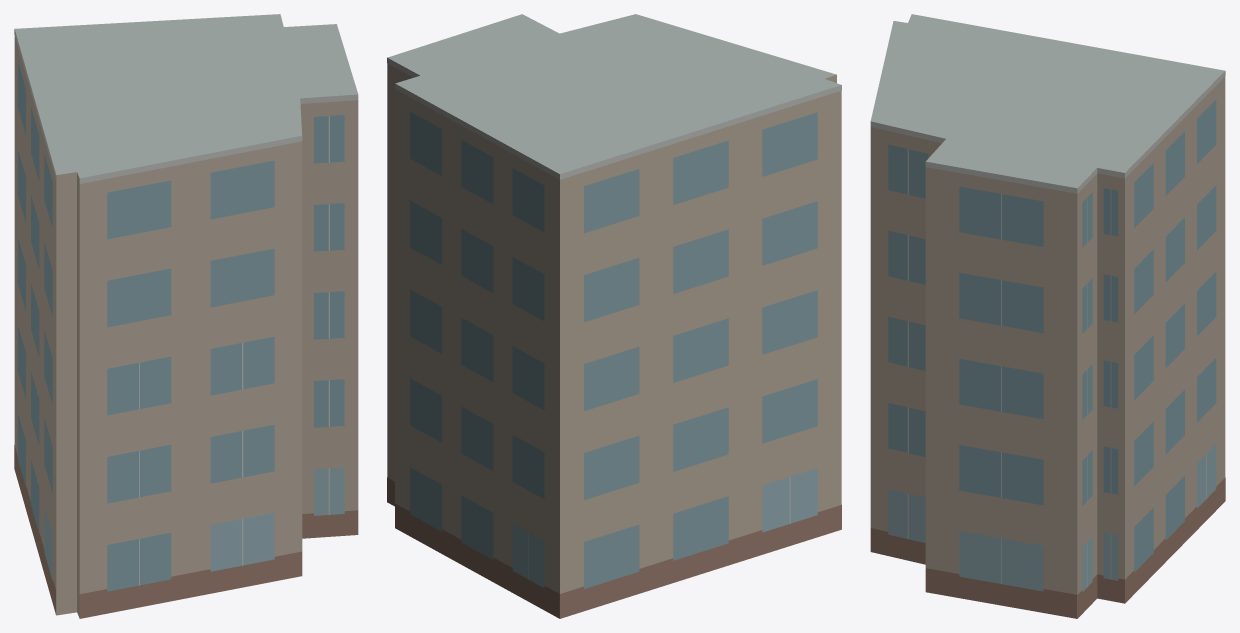
Rendered from survey-upis-32490580.glb.
3 renders of one model, left to right at view 1: azimuth 30°, elevation 25°; view 2: azimuth 150°, elevation 25°; view 3: azimuth 270°, elevation 25°, orthographic. The views are drawn at different scales.
Parts seen in each view (by area): view 1: survey-upis-32490580.tmp; view 2: survey-upis-32490580.tmp; view 3: survey-upis-32490580.tmp.
Part boxes in pixels (<box>): survey-upis-32490580.tmp: <box>14,14,358,618</box>; survey-upis-32490580.tmp: <box>387,14,841,618</box>; survey-upis-32490580.tmp: <box>870,14,1225,618</box>.
Size of the model in its own units: 16.68 by 19.2 by 14.35.
